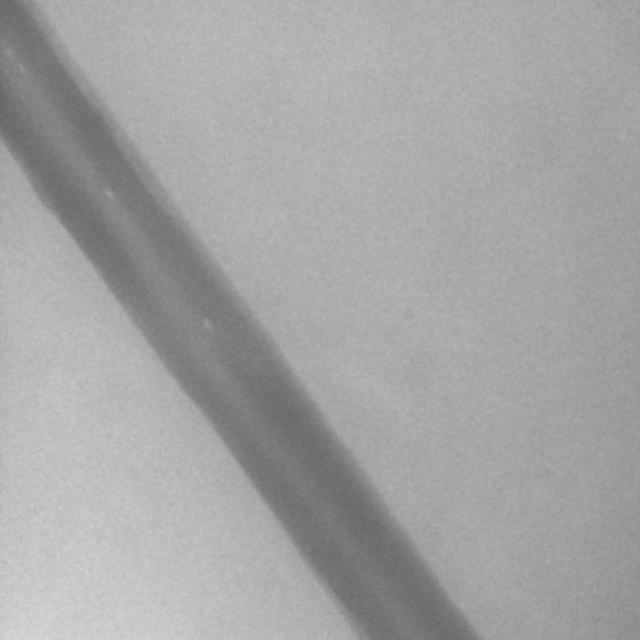air-hole: (101, 182, 116, 198), (200, 312, 212, 332), (16, 60, 28, 77), (4, 40, 16, 52)
